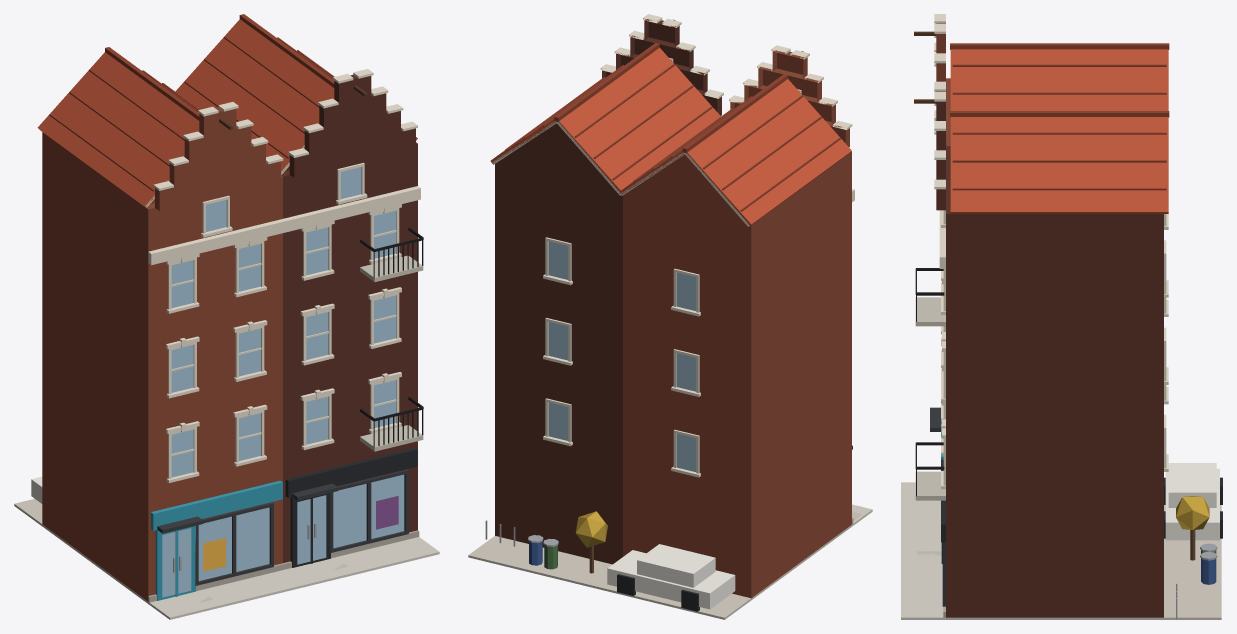
Rendered from Blok_duz_4k_3_Hafif.fbx.
3 views of the same model, side by side, from view 1: azimuth 30°, elevation 25°; view 2: azimuth 150°, elevation 25°; view 3: azimuth 270°, elevation 25° (orthographic). The views are drawn at different scales.
Parts seen in each view (by area): view 1: Blok_duz_4k_3_Hafif; view 2: Blok_duz_4k_3_Hafif; view 3: Blok_duz_4k_3_Hafif.
Part boxes in pixels (bbox=[...]): Blok_duz_4k_3_Hafif: bbox=[14, 14, 439, 619]; Blok_duz_4k_3_Hafif: bbox=[468, 14, 872, 619]; Blok_duz_4k_3_Hafif: bbox=[901, 14, 1222, 619].
Size of the model in its own units: 10.21 by 17.1 by 10.04.
